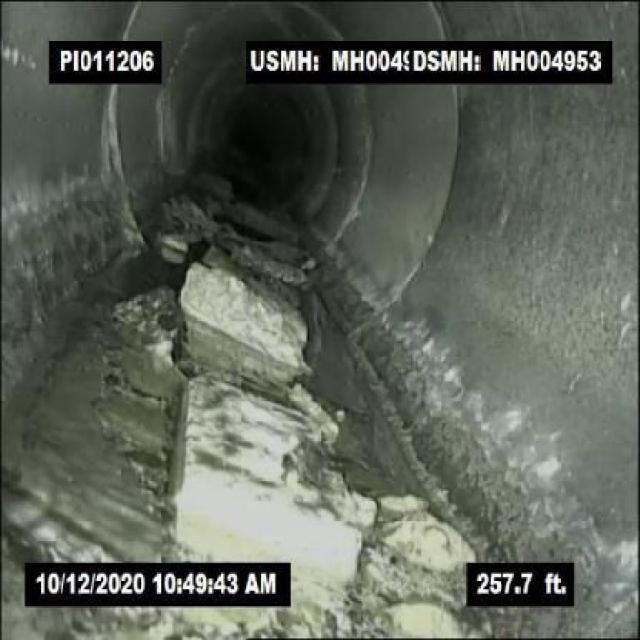Obstacle: (176, 376, 376, 562), (161, 225, 317, 369)
